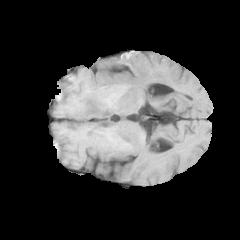glioma: (60, 51, 185, 120)
